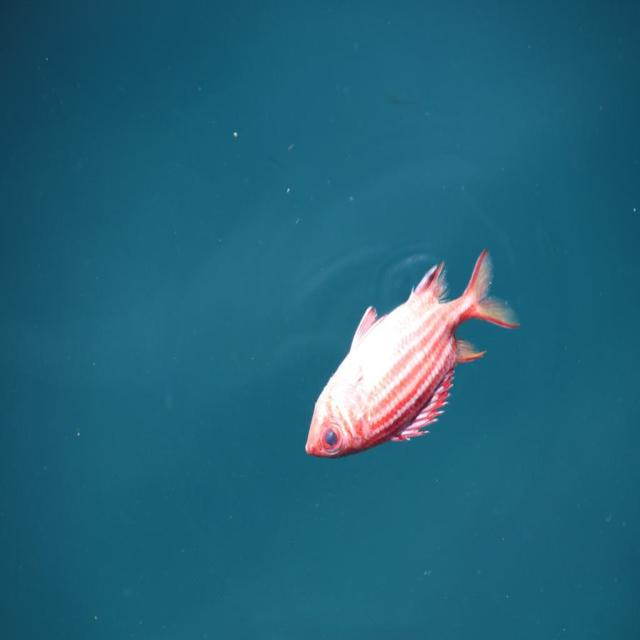Asker Baligi: (304, 246, 520, 459)
